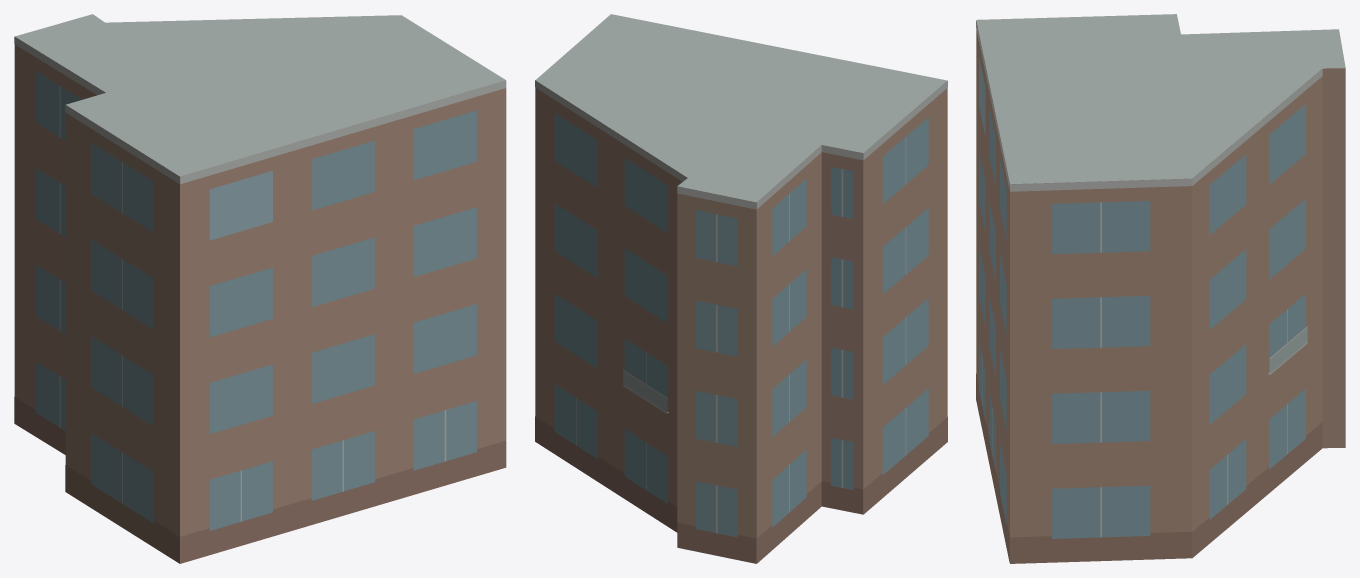
The model's file is survey-upis-32994641.glb.
3 views of the same model, side by side, from view 1: azimuth 30°, elevation 25°; view 2: azimuth 150°, elevation 25°; view 3: azimuth 270°, elevation 25° (orthographic). The views are drawn at different scales.
Visible parts, largest first — view 1: survey-upis-32994641.tmp; view 2: survey-upis-32994641.tmp; view 3: survey-upis-32994641.tmp.
Part boxes in pixels (bbox=[...]): survey-upis-32994641.tmp: bbox=[14, 14, 506, 563]; survey-upis-32994641.tmp: bbox=[535, 14, 947, 563]; survey-upis-32994641.tmp: bbox=[976, 14, 1345, 563].
Bounding box in the file's own units: 11.8 × 12.27 × 10.84.
